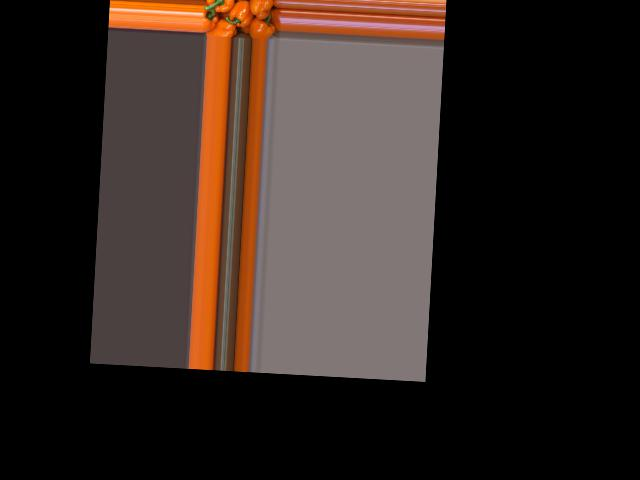bell_pepper: (263, 2, 282, 33)
